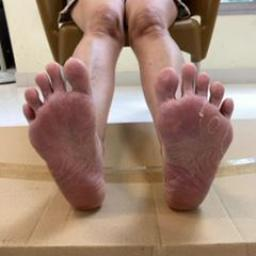Plantar View -Both Feet-: (4, 50, 250, 234)
